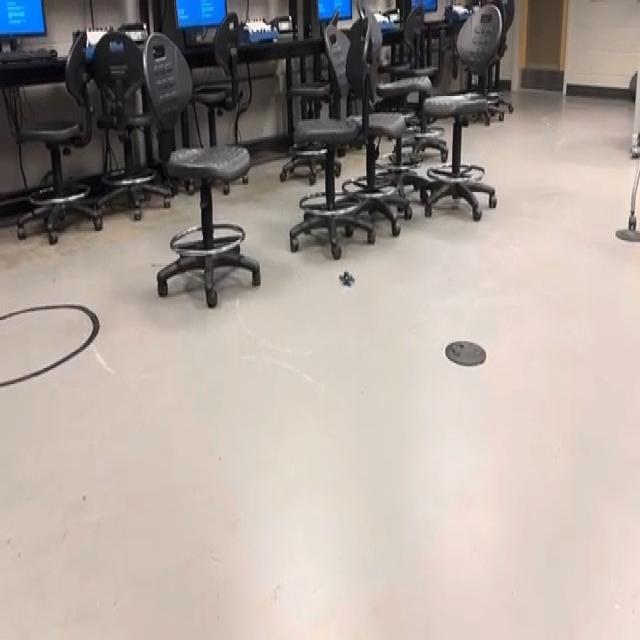drone: (332, 261, 360, 298)
